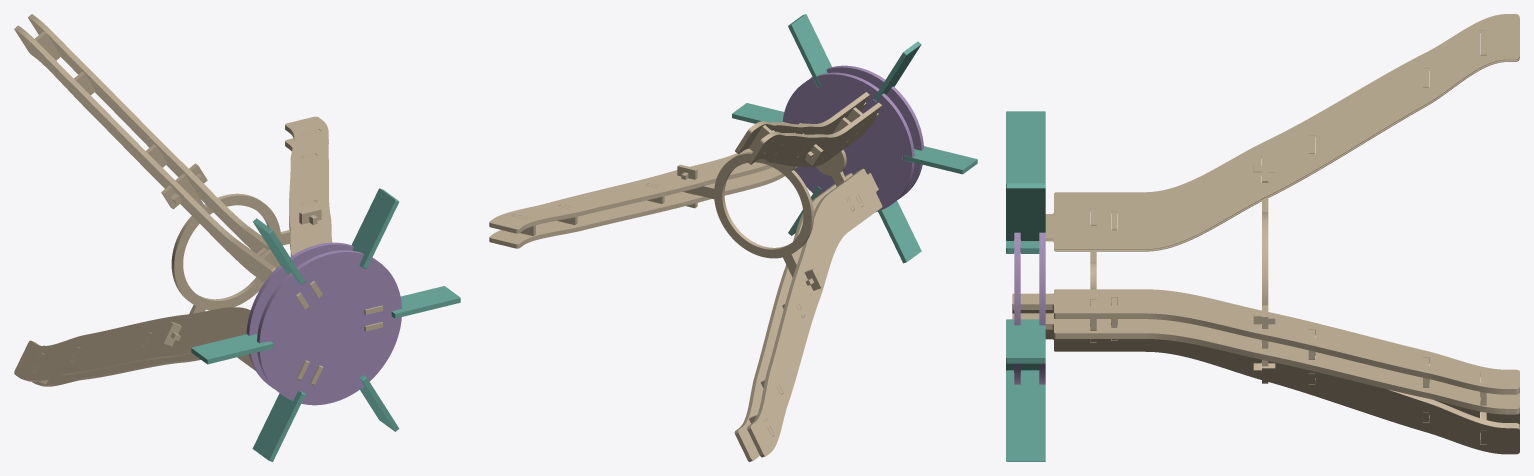
File: C-conditional-DESIGN_ONLY.glb
The picture shows the model from 3 angles, left to right: view 1: azimuth 30°, elevation 25°; view 2: azimuth 150°, elevation 25°; view 3: azimuth 270°, elevation 25°; orthographic projection. The views are drawn at different scales.
Parts seen in each view (by area): view 1: P04U, L3_P01_1, L2_P01_2, L1_P01_2, P06C, L2_P01_1, P04L, P05_2, P05_5, P05_4, L3_P01_2, P05_1 (+2 smaller); view 2: L3_P01_1, P04L, L1_P01_2, P06C, L1_P01_1, L2_P01_2, L3_P01_2, P04U, L2_P01_1, P05_2, P05_5, P05_4 (+3 smaller); view 3: L2_P01_1, L1_P01_2, L3_P01_2, L1_P01_1, P05_6, P05_3, P05_2, P05_1, P06C, L2_P01_2, P04L, P04U (+2 smaller).
Part boxes in pixels (bbox=[...]): P04U: bbox=[257, 250, 401, 405]; L3_P01_1: bbox=[14, 307, 309, 381]; L2_P01_2: bbox=[14, 25, 309, 309]; L1_P01_2: bbox=[285, 116, 382, 314]; P06C: bbox=[161, 163, 321, 346]; L2_P01_1: bbox=[28, 14, 322, 298]; P04L: bbox=[246, 242, 353, 389]; P05_2: bbox=[351, 188, 399, 268]; P05_5: bbox=[252, 391, 305, 461]; P05_4: bbox=[191, 334, 273, 364]; L3_P01_2: bbox=[32, 345, 323, 386]; P05_1: bbox=[391, 286, 460, 318]; L3_P01_1: bbox=[747, 168, 882, 457]; P04L: bbox=[782, 72, 914, 211]; L1_P01_2: bbox=[489, 122, 803, 233]; P06C: bbox=[677, 133, 823, 290]; L1_P01_1: bbox=[489, 166, 797, 248]; L2_P01_2: bbox=[747, 102, 882, 166]; L3_P01_2: bbox=[734, 173, 852, 461]; P04U: bbox=[810, 65, 923, 199]; L2_P01_1: bbox=[735, 92, 869, 154]; P05_2: bbox=[788, 14, 831, 87]; P05_5: bbox=[878, 201, 921, 263]; P05_4: bbox=[903, 146, 977, 174]; L2_P01_1: bbox=[1045, 14, 1519, 249]; L1_P01_2: bbox=[1012, 289, 1519, 394]; L3_P01_2: bbox=[1045, 323, 1519, 454]; L1_P01_1: bbox=[1012, 313, 1519, 414]; P05_6: bbox=[1006, 370, 1045, 461]; P05_3: bbox=[1006, 111, 1045, 183]; P05_2: bbox=[1006, 183, 1045, 240]; P05_1: bbox=[1006, 319, 1045, 363]; P06C: bbox=[1262, 154, 1268, 383]; L2_P01_2: bbox=[1013, 31, 1519, 251]; P04L: bbox=[1039, 232, 1045, 384]; P04U: bbox=[1014, 232, 1020, 384].
Bounding box in the file's own units: 0.431 × 0.4673 × 0.494.
